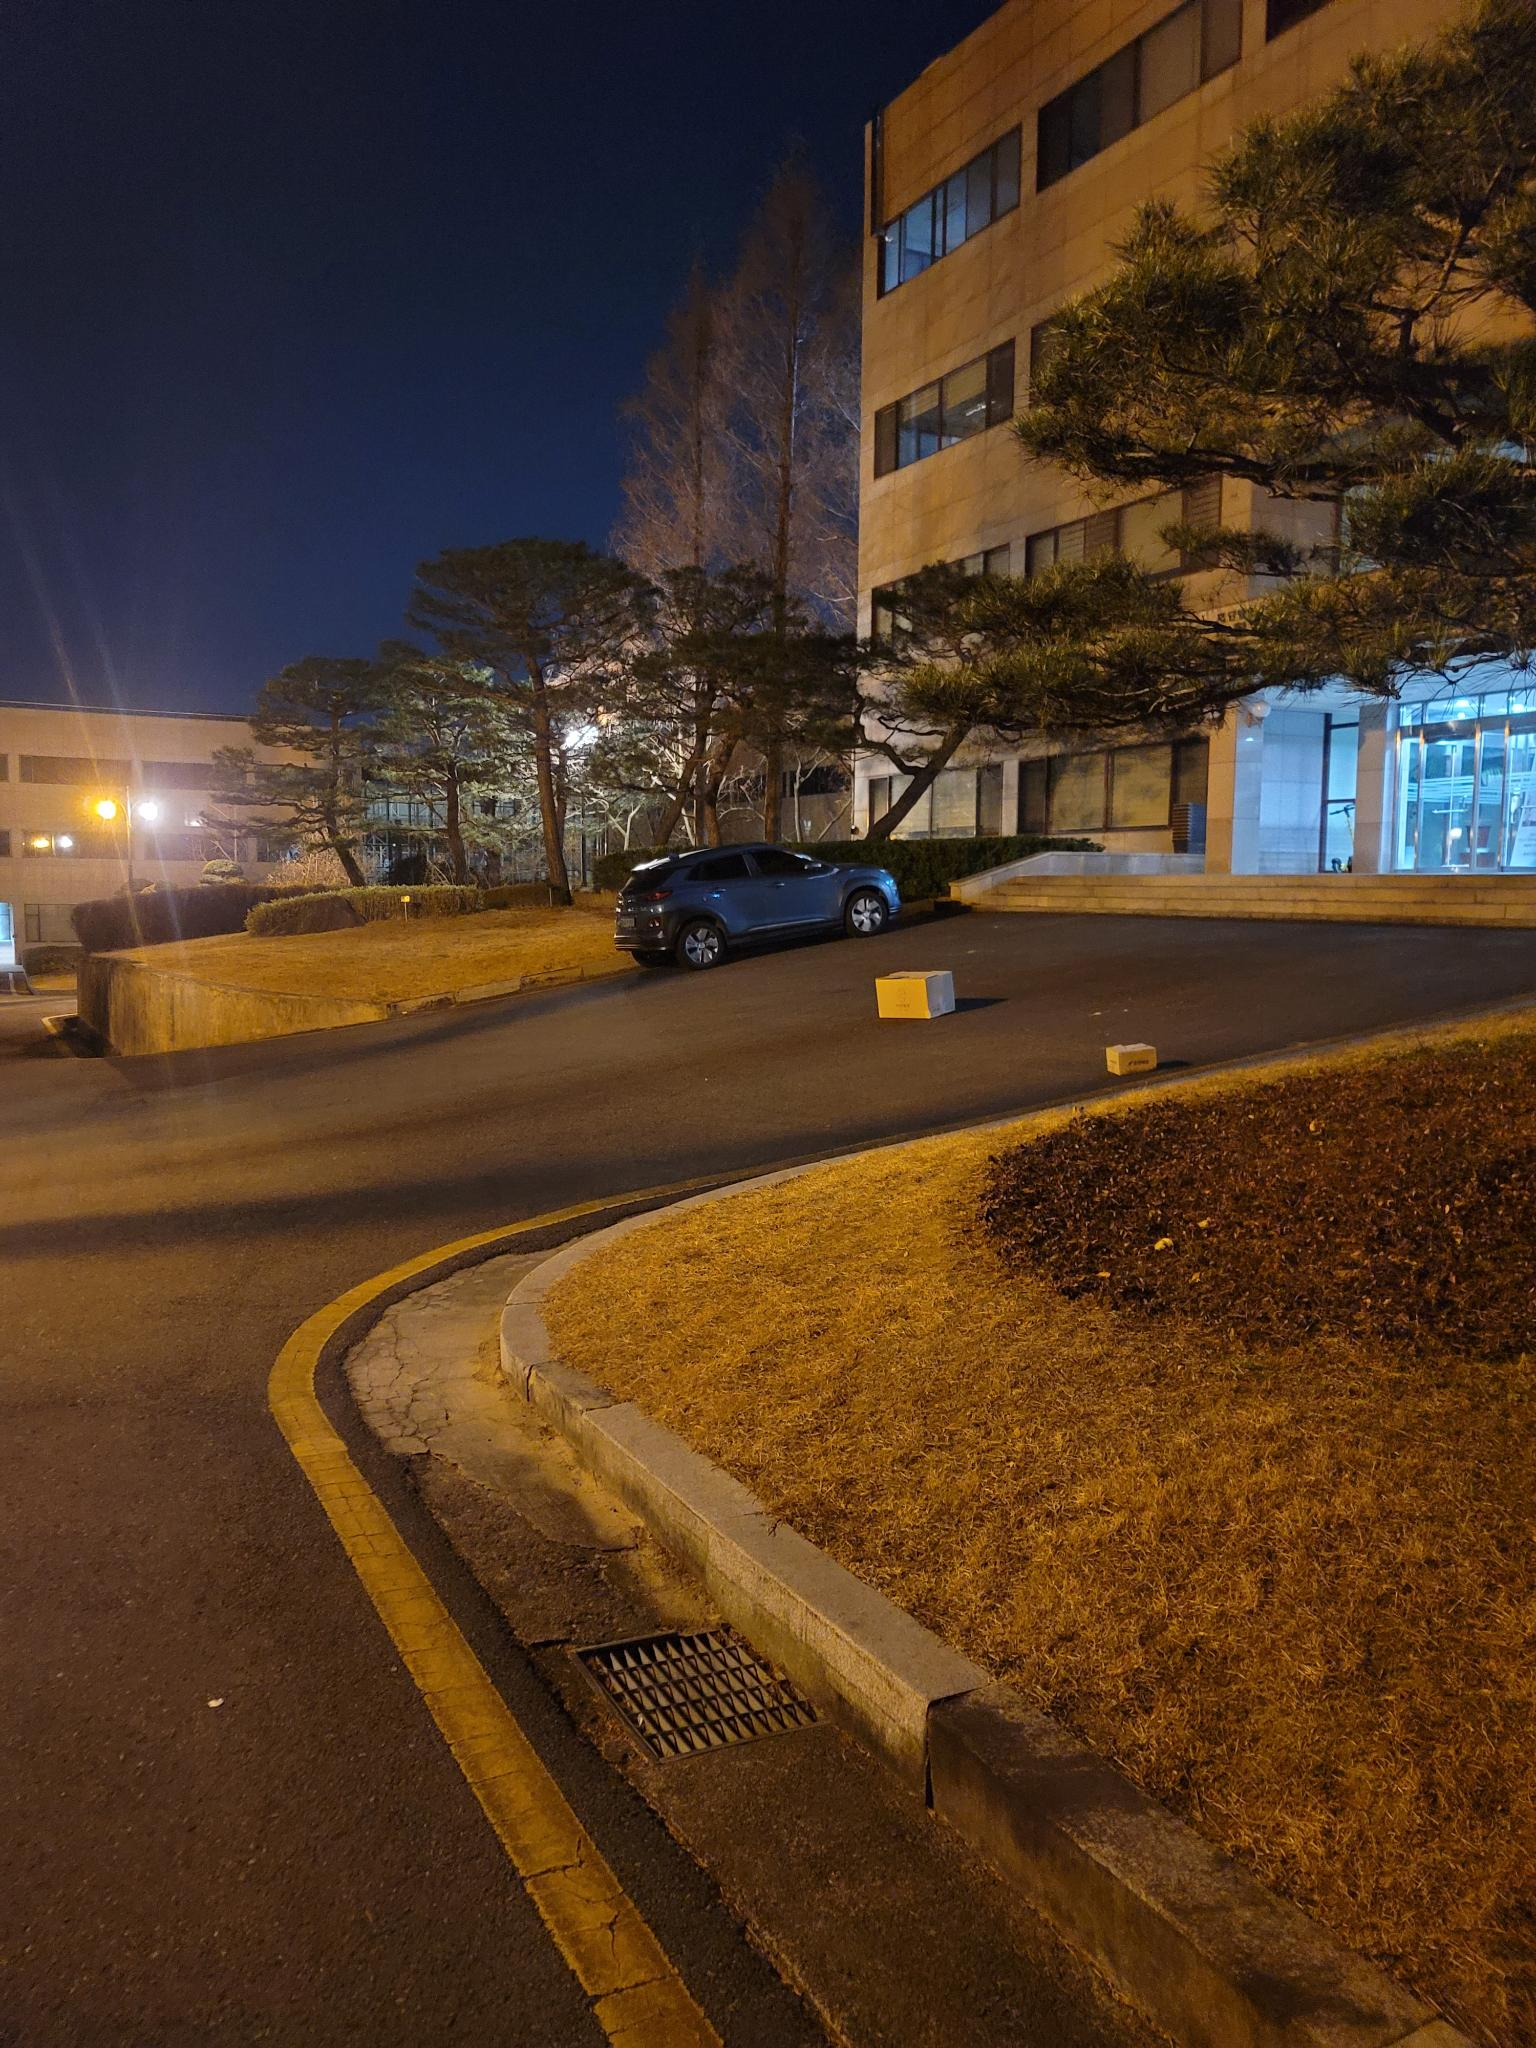Box: (871, 956, 957, 1027), (1097, 1032, 1165, 1080)
